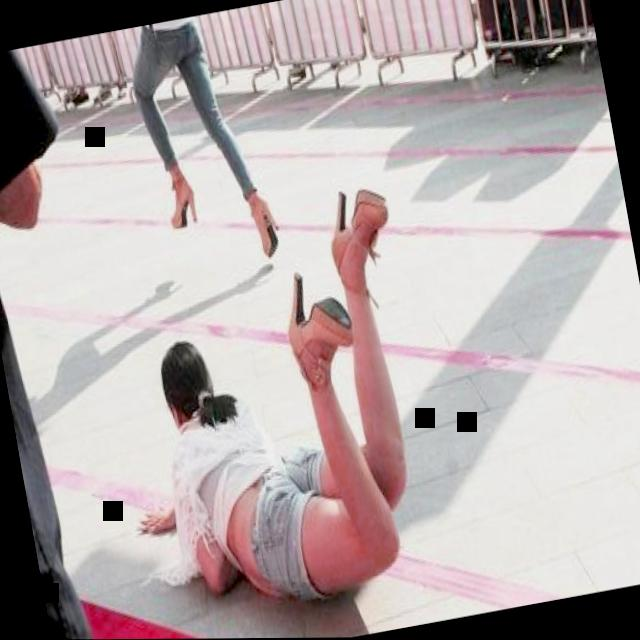Fall-Detected: (91, 145, 485, 639)
